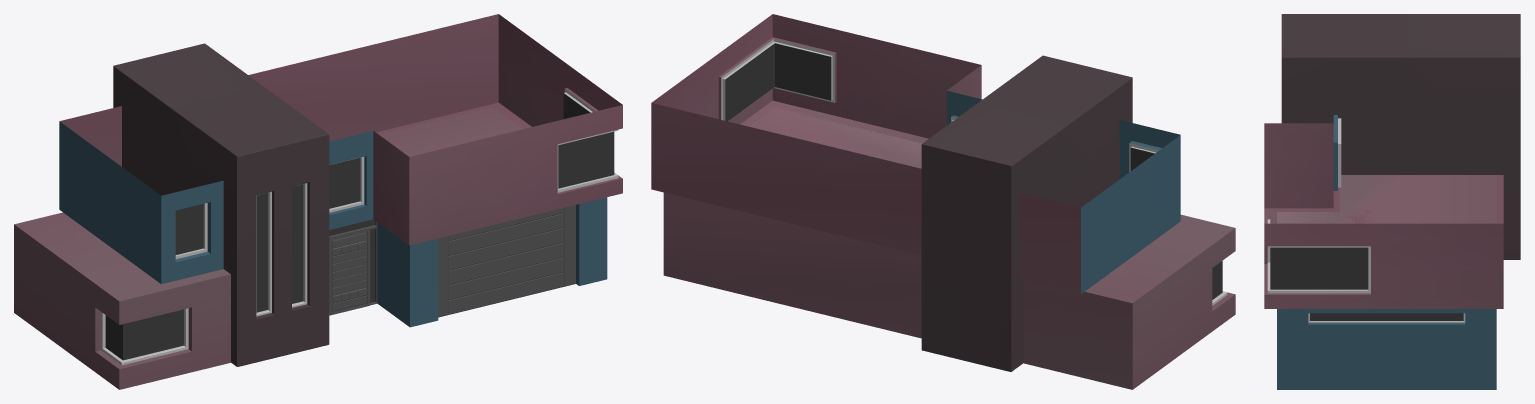
Rendered from Casa2.obj.
The picture shows the model from 3 angles, left to right: view 1: azimuth 30°, elevation 25°; view 2: azimuth 150°, elevation 25°; view 3: azimuth 270°, elevation 25°; orthographic projection. The views are drawn at different scales.
Visible parts, largest first — view 1: Casa2; view 2: Casa2; view 3: Casa2.
Part boxes in pixels (left/top/right/bottom): Casa2: left=14, top=14, right=622, bottom=389; Casa2: left=651, top=14, right=1235, bottom=389; Casa2: left=1264, top=14, right=1520, bottom=389.
Size of the model in its own units: 13.86 by 5.71 by 6.53.
1 material, 1 textured.
